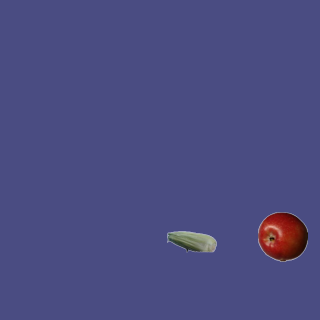Apple Braeburn: (257, 211, 307, 261)
Corn Husk: (166, 216, 216, 266)
